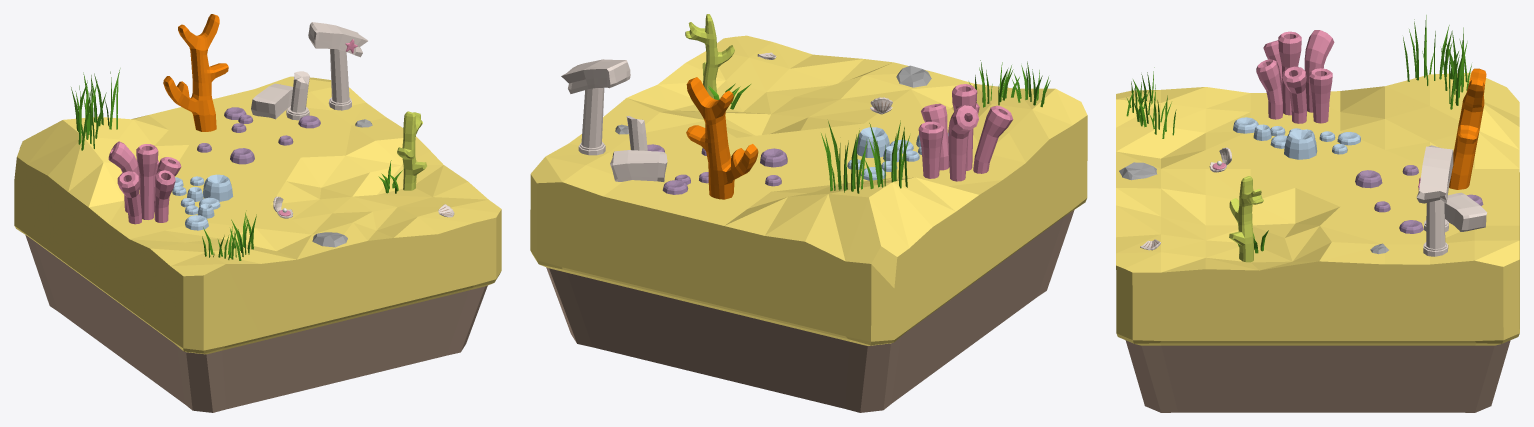
The model's file is Island_20.glb.
3 views of the same model, side by side, from view 1: azimuth 30°, elevation 25°; view 2: azimuth 150°, elevation 25°; view 3: azimuth 270°, elevation 25° (orthographic). The views are drawn at different scales.
Parts seen in each view (by area): view 1: Isl20_Base, Isl20_Brocken_Monument, Isl20_Coral_1, Isl20_Coral_2, Isl20_Coral_4, Isl20_Seaweed_3, Isl20_Coral_3, Isl20_Seaweed_2; view 2: Isl20_Base, Isl20_Coral_1, Isl20_Brocken_Monument, Isl20_Coral_2, Isl20_Seaweed_3, Isl20_Coral_4, Isl20_Coral_3, Isl20_Seaweed_2; view 3: Isl20_Base, Isl20_Coral_1, Isl20_Brocken_Monument, Isl20_Coral_2, Isl20_Coral_4, Isl20_Seaweed_3, Isl20_Coral_3, Isl20_Seaweed_2.
Part boxes in pixels (x1,y1,x2,y2): Isl20_Base: [14, 76, 501, 412]; Isl20_Brocken_Monument: [251, 22, 367, 120]; Isl20_Coral_1: [108, 141, 181, 224]; Isl20_Coral_2: [163, 14, 228, 131]; Isl20_Coral_4: [172, 174, 233, 230]; Isl20_Seaweed_3: [71, 68, 120, 150]; Isl20_Coral_3: [397, 111, 426, 190]; Isl20_Seaweed_2: [202, 210, 256, 260]; Isl20_Base: [530, 35, 1087, 412]; Isl20_Coral_1: [918, 84, 1013, 181]; Isl20_Brocken_Monument: [561, 59, 667, 181]; Isl20_Coral_2: [686, 77, 758, 199]; Isl20_Seaweed_3: [821, 120, 909, 193]; Isl20_Coral_4: [847, 127, 948, 180]; Isl20_Coral_3: [685, 14, 734, 98]; Isl20_Seaweed_2: [968, 60, 1050, 107]; Isl20_Base: [1116, 72, 1519, 412]; Isl20_Coral_1: [1256, 30, 1334, 123]; Isl20_Brocken_Monument: [1416, 145, 1487, 256]; Isl20_Coral_2: [1449, 68, 1486, 189]; Isl20_Coral_4: [1233, 117, 1360, 159]; Isl20_Seaweed_3: [1403, 15, 1471, 109]; Isl20_Coral_3: [1229, 176, 1263, 262]; Isl20_Seaweed_2: [1126, 67, 1176, 138].
Size of the model in its own units: 20 by 15.06 by 20.01.
1 material, 1 textured.
